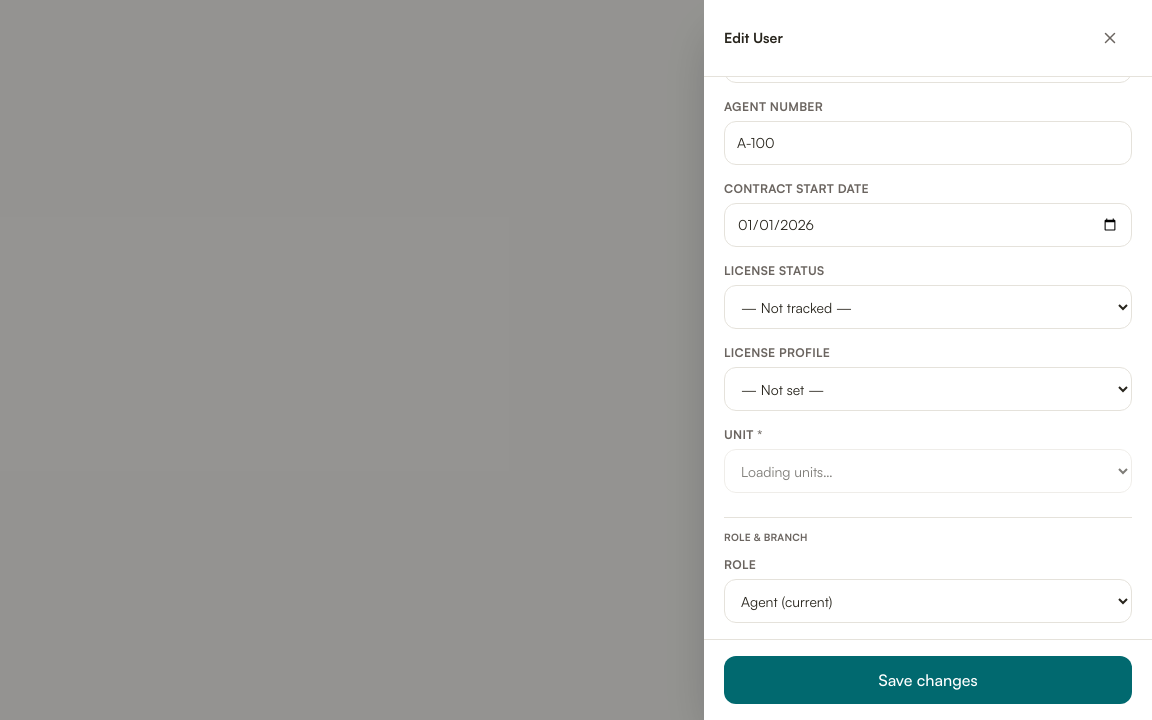
Test: EditUserDrawer › CF permission-denied error surfaces user-facing copy and keeps drawer open
(page scrolled)
Select "Unit Manager" in the dropdown with test id "edit-user-role" at x=928, y=601, box [724,579,1132,623]
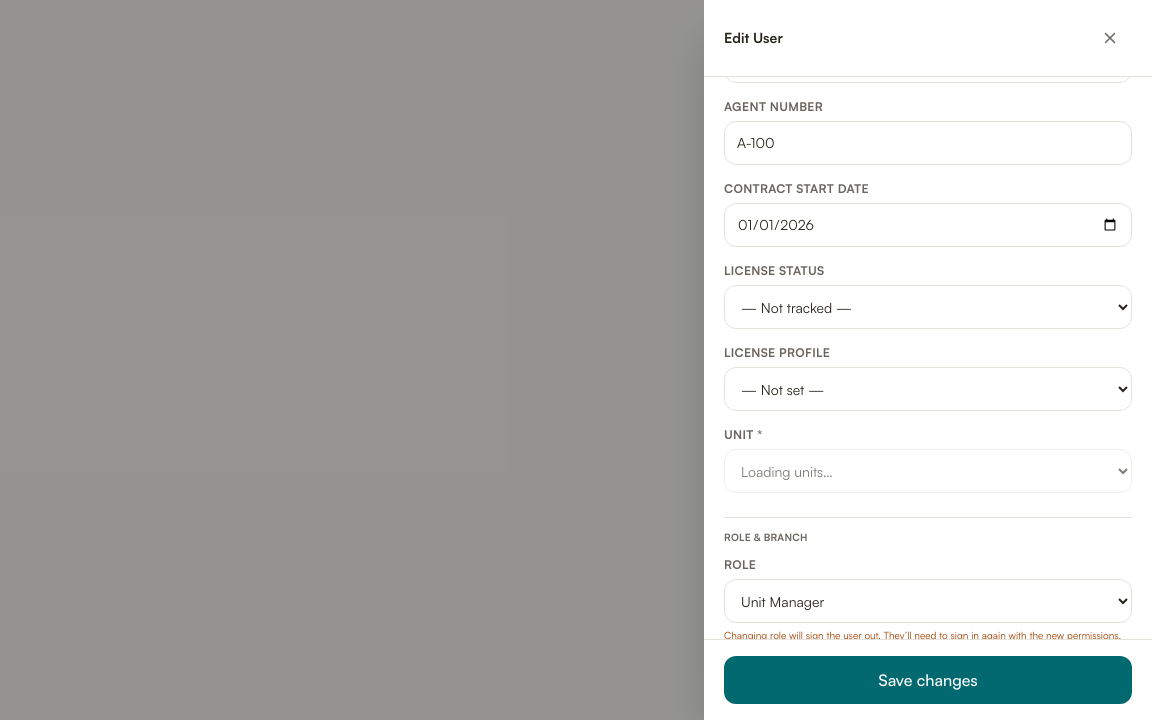
Click the button "Save changes".
click(928, 680)  # box [724,656,1132,704]
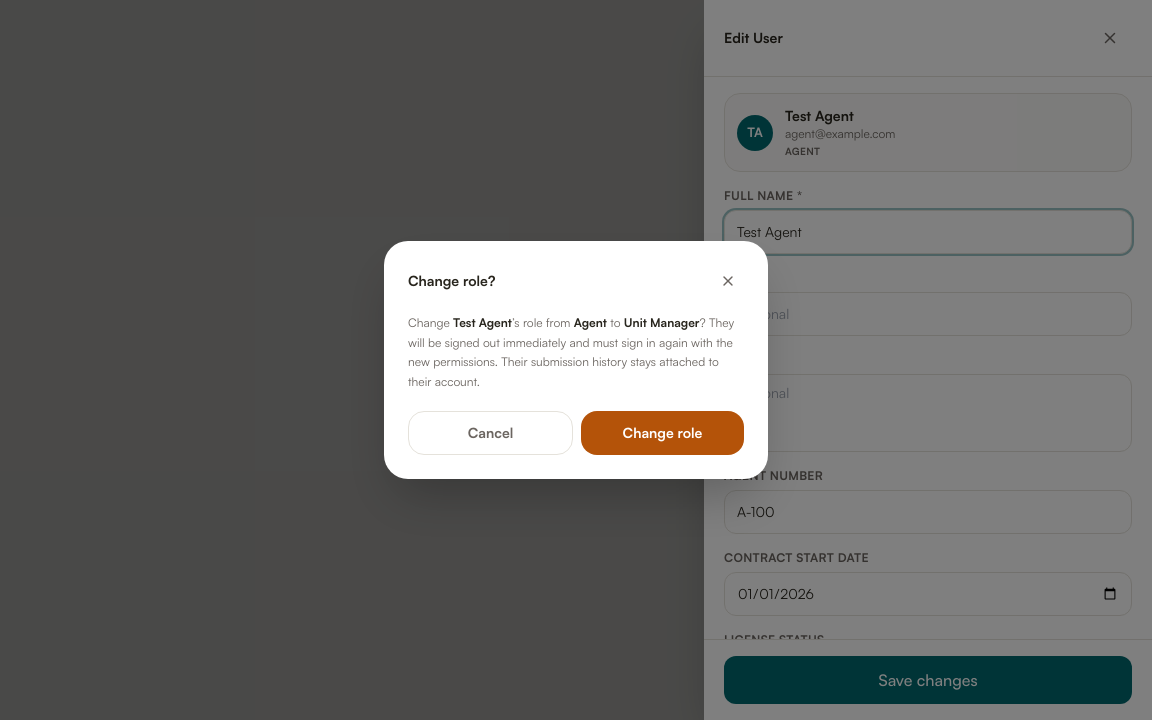
Now the text "Change role?" is shown, box [408,271,496,291]
Click the button "Change role".
click(662, 433)  # box [581,411,744,455]
(page scrolled)
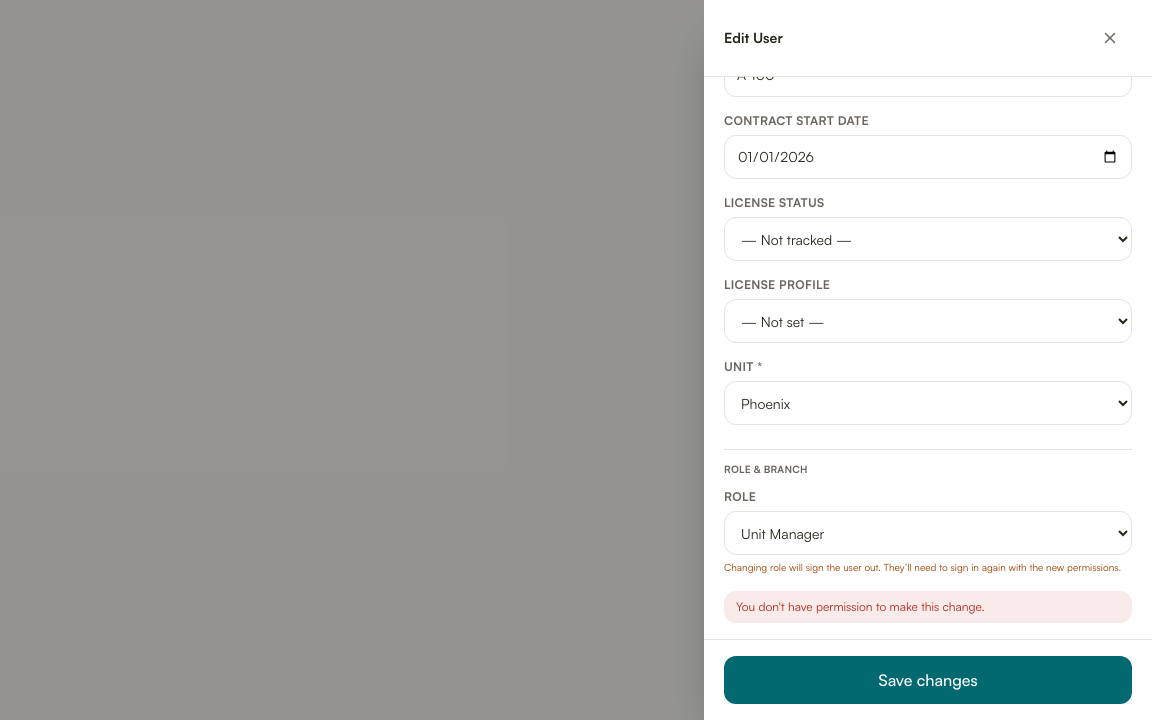
Now the text "You don't have permission to make this change." is shown, box [724,591,1132,623]
